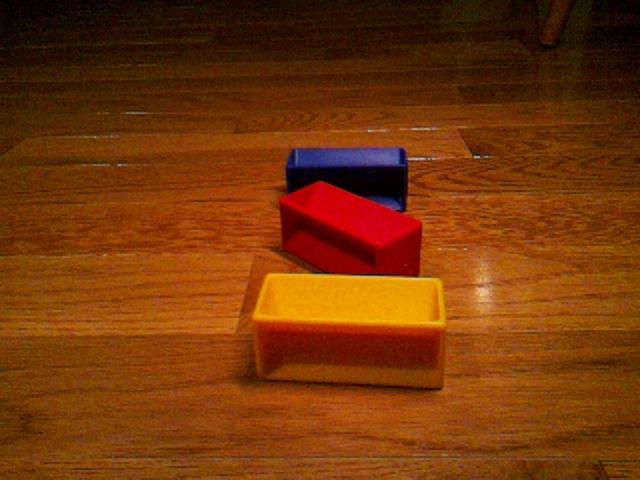blue: (284, 145, 410, 212)
red: (278, 179, 424, 276)
yellow: (251, 271, 448, 390)
